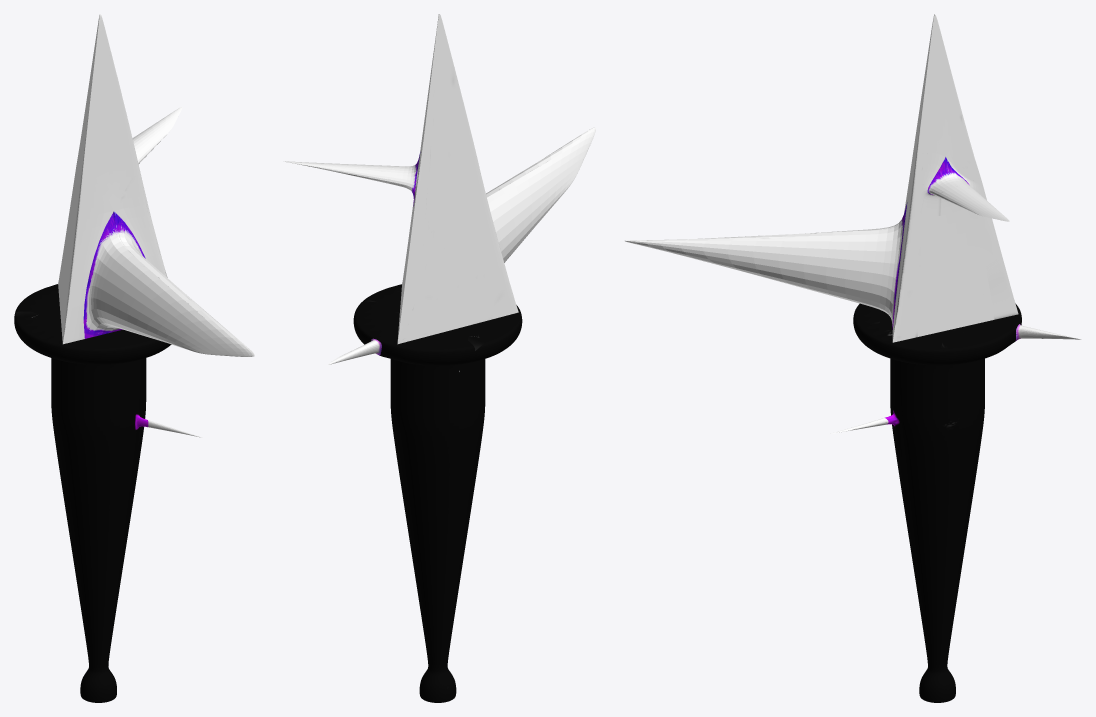
Rendered from 4D dagger new.fbx.
The picture shows the model from 3 angles, left to right: view 1: azimuth 30°, elevation 25°; view 2: azimuth 150°, elevation 25°; view 3: azimuth 270°, elevation 25°; orthographic projection.
Visible parts, largest first — view 1: Cylinder; view 2: Cylinder; view 3: Cylinder.
Part boxes in pixels (left/top/right/bottom): Cylinder: left=14, top=14, right=254, bottom=702; Cylinder: left=283, top=14, right=595, bottom=702; Cylinder: left=625, top=14, right=1081, bottom=702.
Bounding box in the file's own units: 17.67 × 59.86 × 36.42.
1 material, 1 textured.
